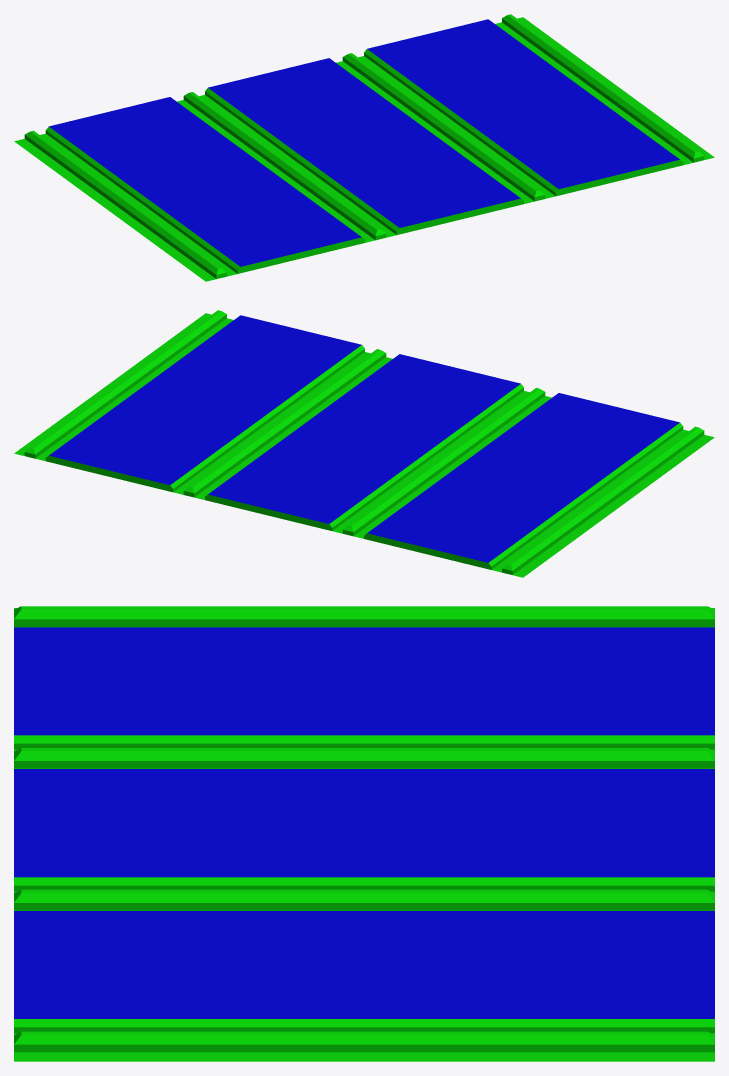
The model's file is alletytest.fbx.
3 renders of one model, top to bottom at view 1: azimuth 30°, elevation 25°; view 2: azimuth 150°, elevation 25°; view 3: azimuth 270°, elevation 25°, orthographic. The views are drawn at different scales.
Visible parts, largest first — view 1: uvlayout1; view 2: uvlayout1; view 3: uvlayout1.
Boxes of the visible parts, x1=… form: uvlayout1: x1=14, y1=14, x2=714, y2=281; uvlayout1: x1=14, y1=310, x2=714, y2=577; uvlayout1: x1=14, y1=606, x2=714, y2=1061.
Size of the model in its own units: 21.6 by 0.32 by 14.1.
